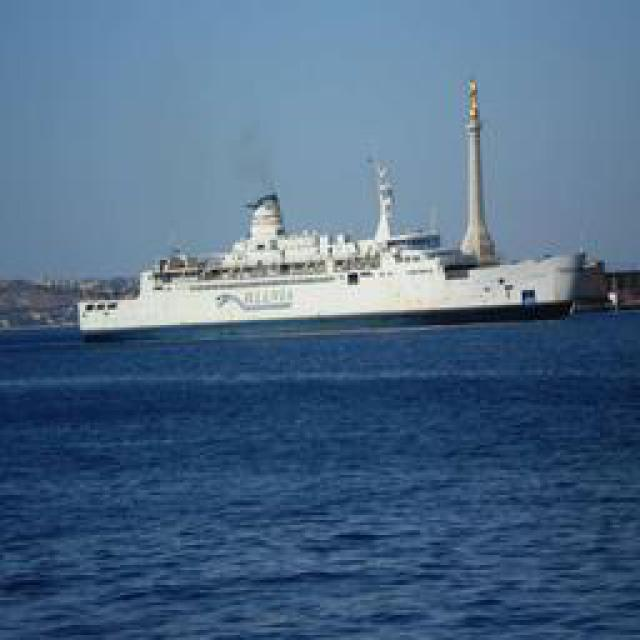Ship: (79, 126, 594, 339)
